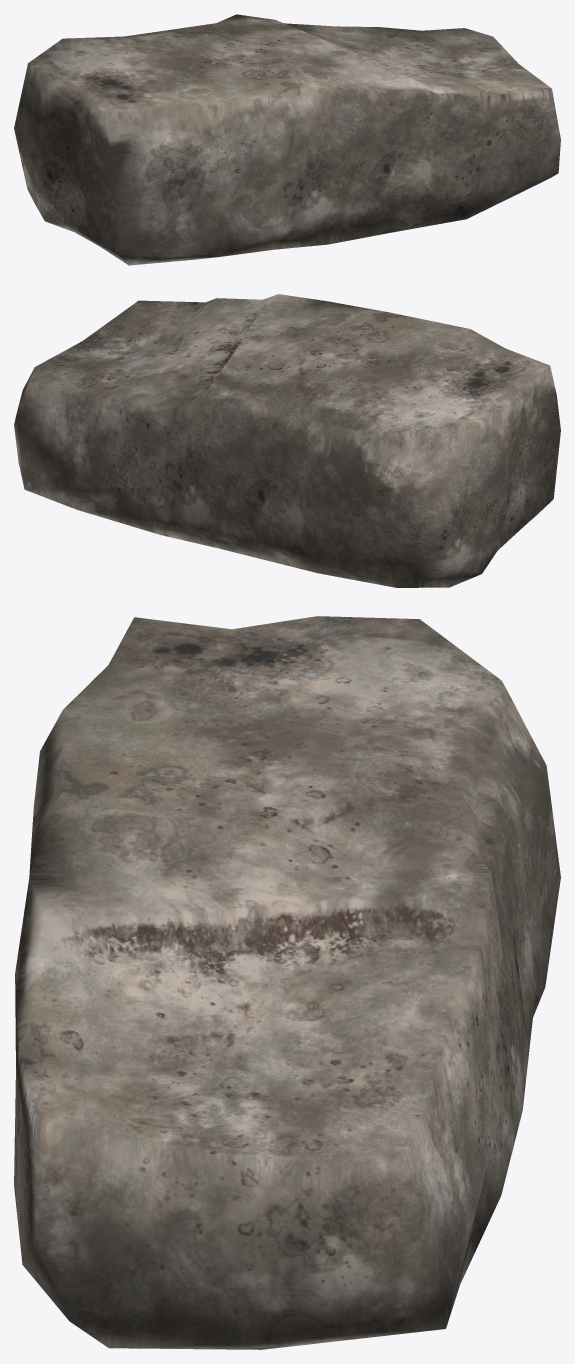
The model's file is Rock_1.fbx.
3 renders of one model, top to bottom at view 1: azimuth 30°, elevation 25°; view 2: azimuth 150°, elevation 25°; view 3: azimuth 270°, elevation 25°, orthographic. The views are drawn at different scales.
Parts seen in each view (by area): view 1: Rock_1; view 2: Rock_1; view 3: Rock_1.
Boxes of the visible parts, x1=… form: Rock_1: x1=14, y1=14, x2=560, y2=265; Rock_1: x1=14, y1=294, x2=560, y2=587; Rock_1: x1=14, y1=616, x2=560, y2=1349.
Bounding box in the file's own units: 834 × 323 × 443.
1 material, 1 textured.
